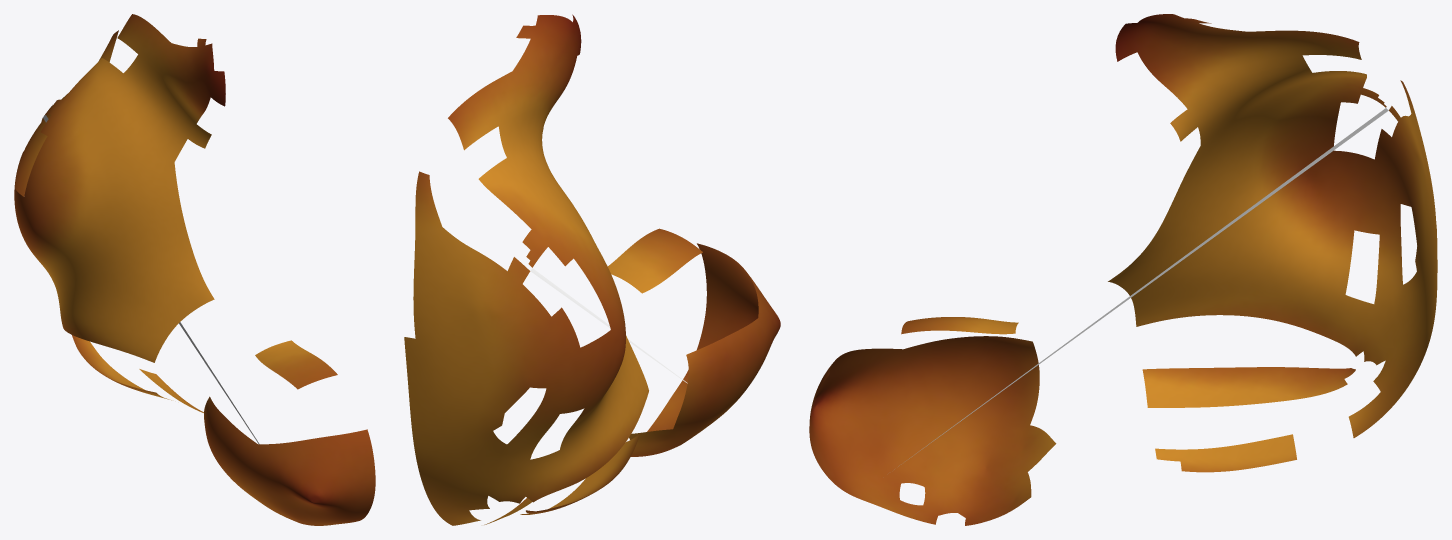
File: 20430_Cat_v1_NEW.obj
The picture shows the model from 3 angles, left to right: view 1: azimuth 30°, elevation 25°; view 2: azimuth 150°, elevation 25°; view 3: azimuth 270°, elevation 25°; orthographic projection. The views are drawn at different scales.
Parts seen in each view (by area): view 1: 20430_Cat; view 2: 20430_Cat; view 3: 20430_Cat.
Boxes of the visible parts, x1,y1,x2,y2 form: 20430_Cat: (14,14,375,525); 20430_Cat: (404,14,780,525); 20430_Cat: (809,14,1437,525).
Size of the model in its own units: 3.39 by 9.51 by 10.76.
